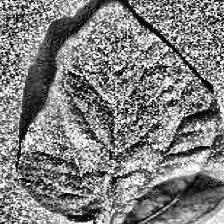Blossom Blight: (85, 20, 138, 60), (76, 172, 118, 208), (63, 124, 106, 159), (147, 82, 197, 109), (88, 87, 127, 121), (175, 117, 209, 151)
